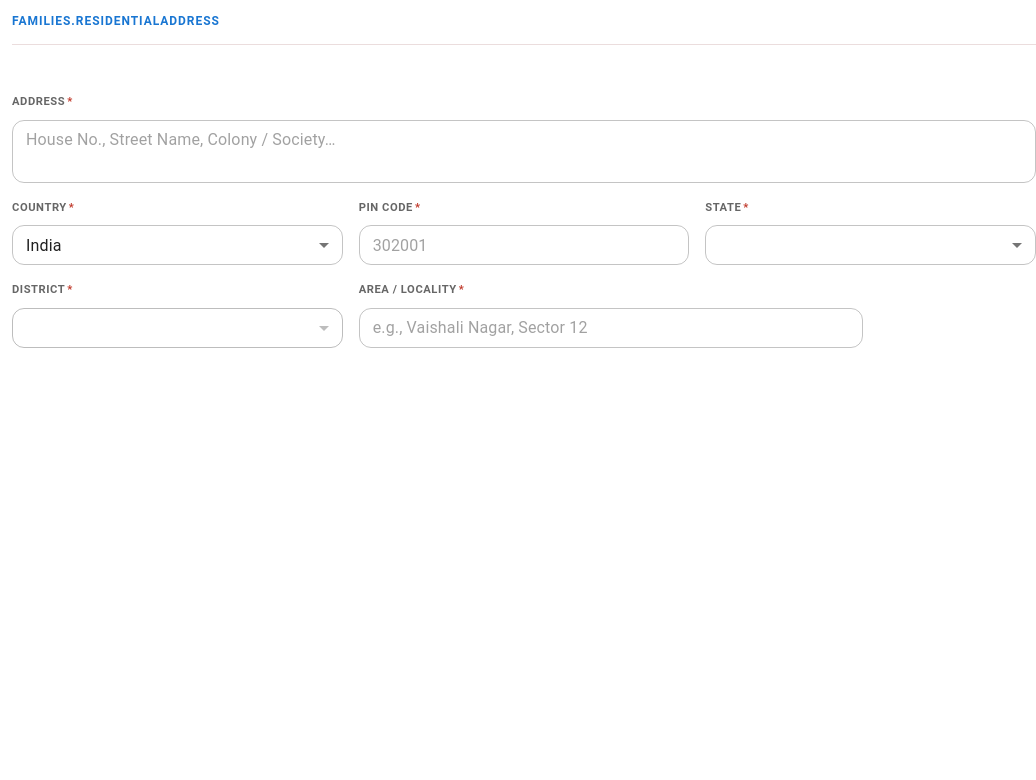
AddressStep › falls back to the manual State/District dropdowns for an unknown PIN code
Type "999999" into the field with placeholder "302001" at [524, 245], box x1=359 y1=225 x2=689 y2=265
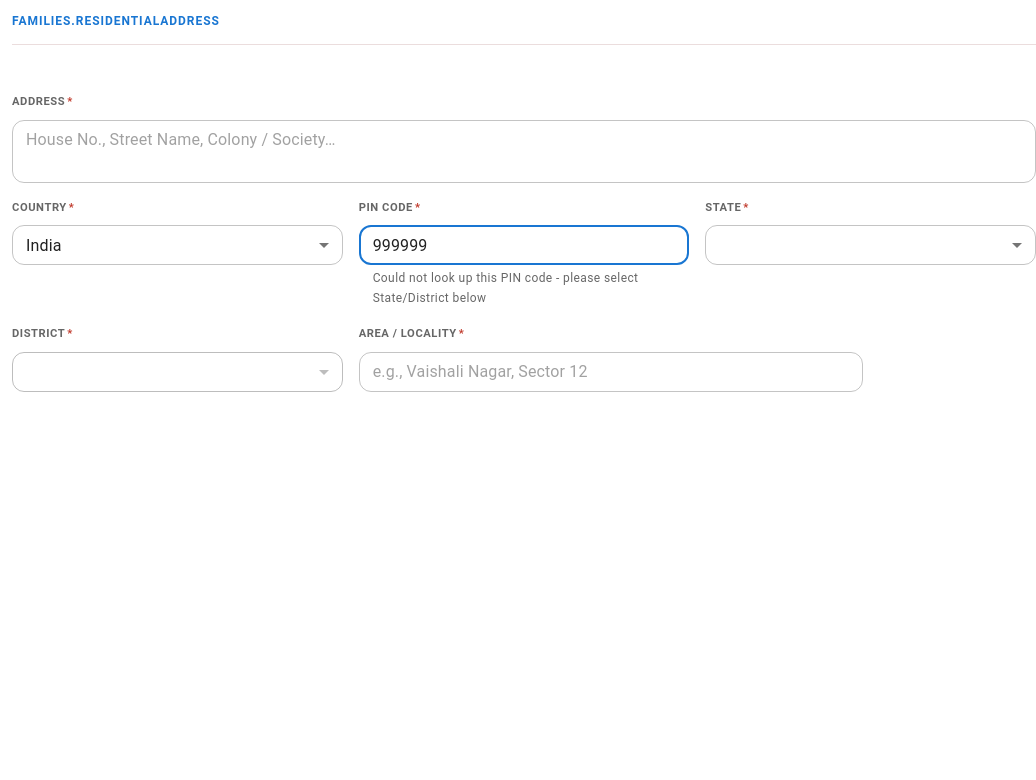
Expected: the text "Could not look up this PIN code" is shown, x1=373 y1=271 x2=638 y2=305
Click the 2nd dropdown at [871, 245], box x1=705 y1=225 x2=1035 y2=265
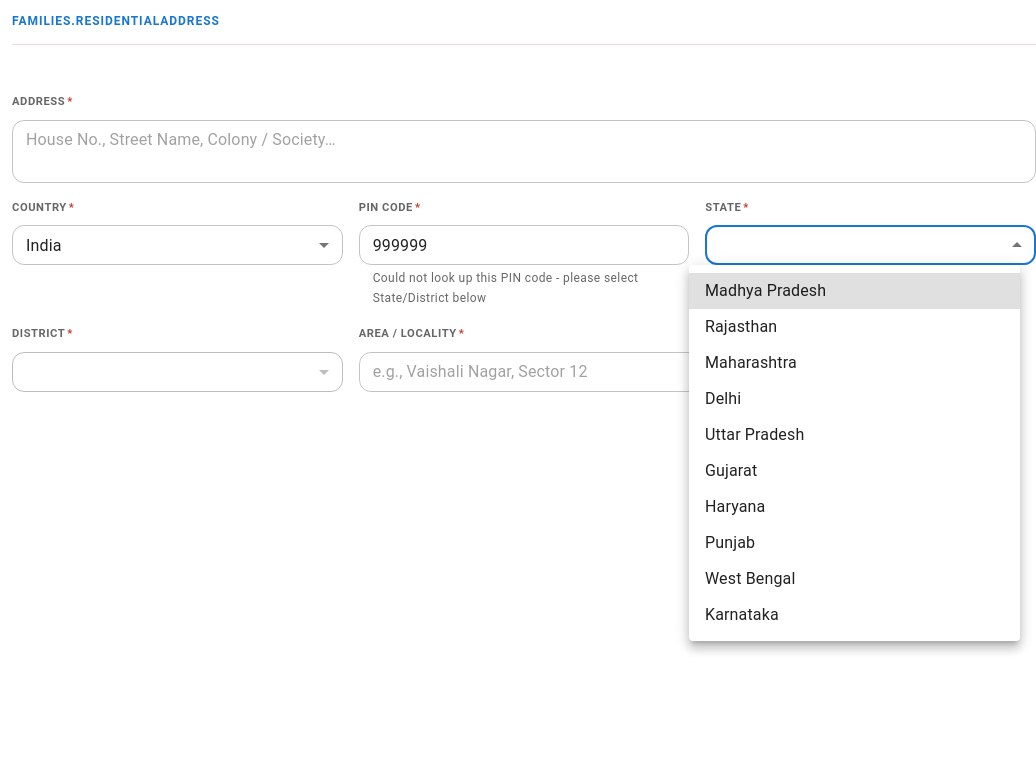
Expected: the option "Madhya Pradesh" is shown, x1=689 y1=273 x2=1020 y2=309
